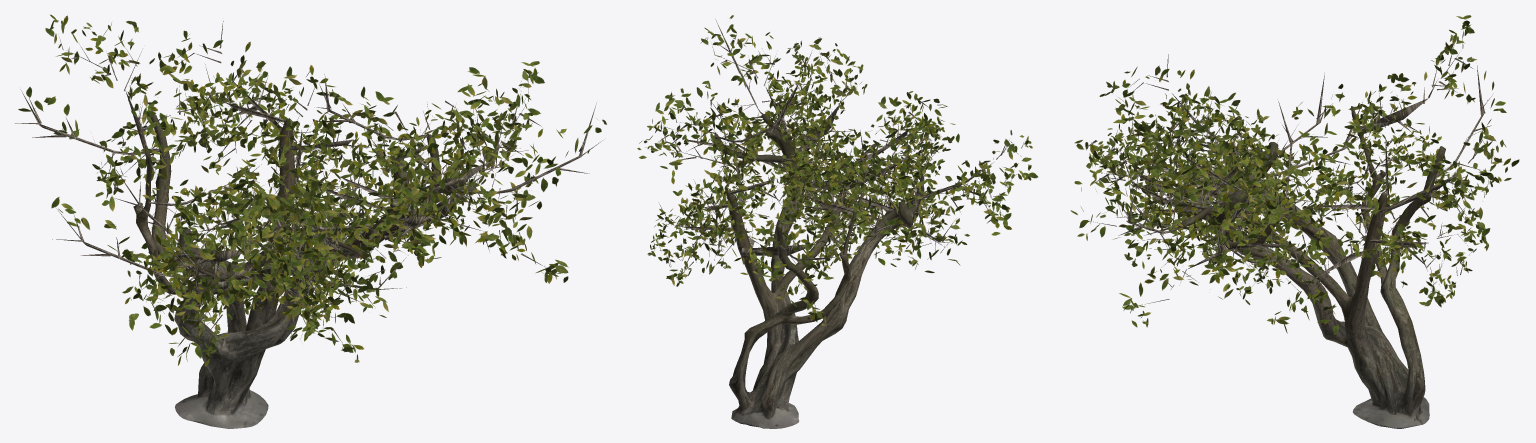
The model's file is arbre_cotier.glb.
3 views of the same model, side by side, from view 1: azimuth 30°, elevation 25°; view 2: azimuth 150°, elevation 25°; view 3: azimuth 270°, elevation 25° (orthographic). The views are drawn at different scales.
Parts seen in each view (by area): view 1: arbre2_feuilles, arbre2_tronc, arbre2_branches; view 2: arbre2_feuilles, arbre2_tronc, arbre2_branches; view 3: arbre2_feuilles, arbre2_tronc, arbre2_branches.
Boxes of the visible parts, bbox=[...] form: arbre2_feuilles: bbox=[18, 14, 606, 366]; arbre2_tronc: bbox=[133, 114, 476, 428]; arbre2_branches: bbox=[15, 21, 602, 343]; arbre2_feuilles: bbox=[637, 15, 1038, 325]; arbre2_tronc: bbox=[714, 113, 919, 428]; arbre2_branches: bbox=[656, 19, 1021, 308]; arbre2_feuilles: bbox=[1070, 15, 1519, 334]; arbre2_tronc: bbox=[1145, 106, 1445, 428]; arbre2_branches: bbox=[1085, 34, 1495, 321].
Bounding box in the file's own units: 3.98 × 3.41 × 4.09.
3 materials, 3 textured.
